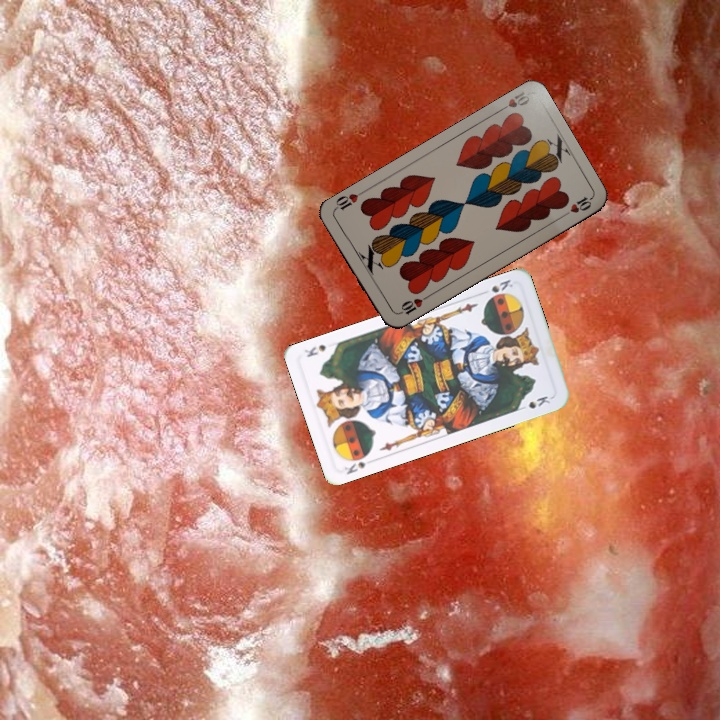H10: (493, 88, 533, 115), (394, 291, 431, 317)
SK: (340, 457, 370, 477), (487, 275, 516, 295)
